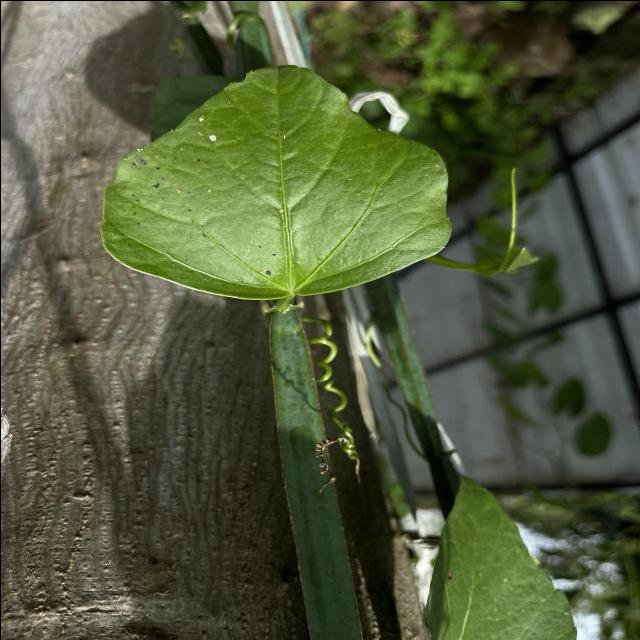Cissus quadrangularis: (94, 61, 456, 302)
